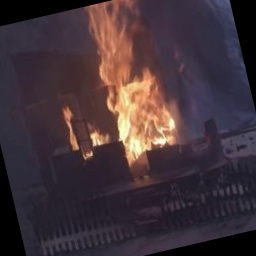fire: (76, 0, 196, 166)
